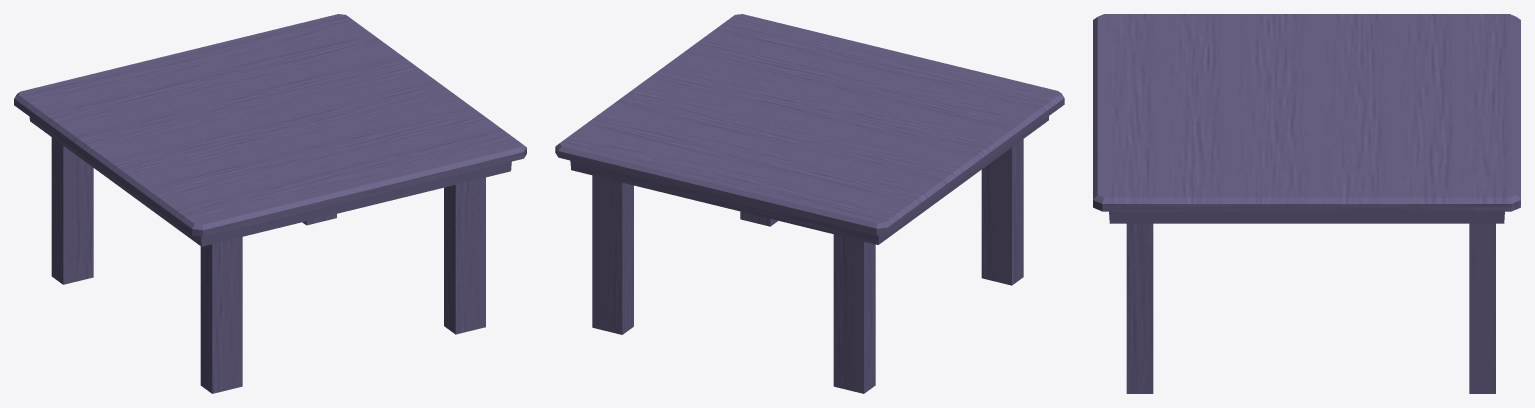
File: Square Table_G.FBX
3 views of the same model, side by side, from view 1: azimuth 30°, elevation 25°; view 2: azimuth 150°, elevation 25°; view 3: azimuth 270°, elevation 25° (orthographic). The views are drawn at different scales.
Visible parts, largest first — view 1: Square Table; view 2: Square Table; view 3: Square Table.
Part boxes in pixels (<box>): Square Table: <box>14,14,526,393</box>; Square Table: <box>555,14,1064,393</box>; Square Table: <box>1093,14,1520,393</box>.
Bounding box in the file's own units: 264 × 138 × 254.
